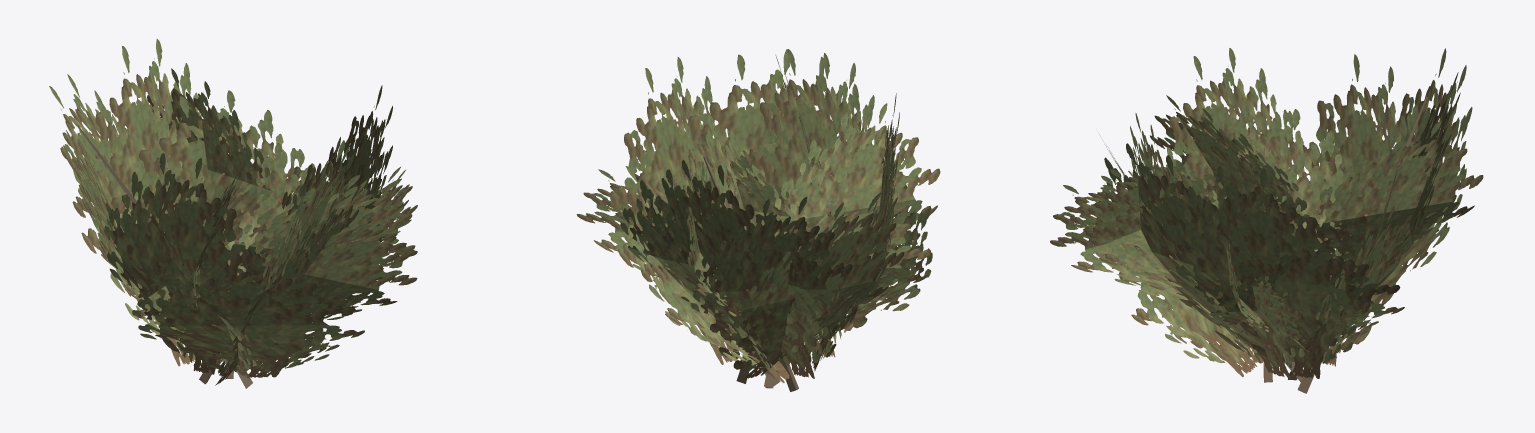
Rendered from Bush_04_Rounded.fbx.
3 views of the same model, side by side, from view 1: azimuth 30°, elevation 25°; view 2: azimuth 150°, elevation 25°; view 3: azimuth 270°, elevation 25° (orthographic). The views are drawn at different scales.
Visible parts, largest first — view 1: Bush_04_Rounded.001; view 2: Bush_04_Rounded.001; view 3: Bush_04_Rounded.001.
Boxes of the visible parts, x1,y1,x2,y2 form: Bush_04_Rounded.001: (49,39,417,388); Bush_04_Rounded.001: (576,49,940,391); Bush_04_Rounded.001: (1050,48,1483,393).
Bounding box in the file's own units: 120 × 80.02 × 127.
